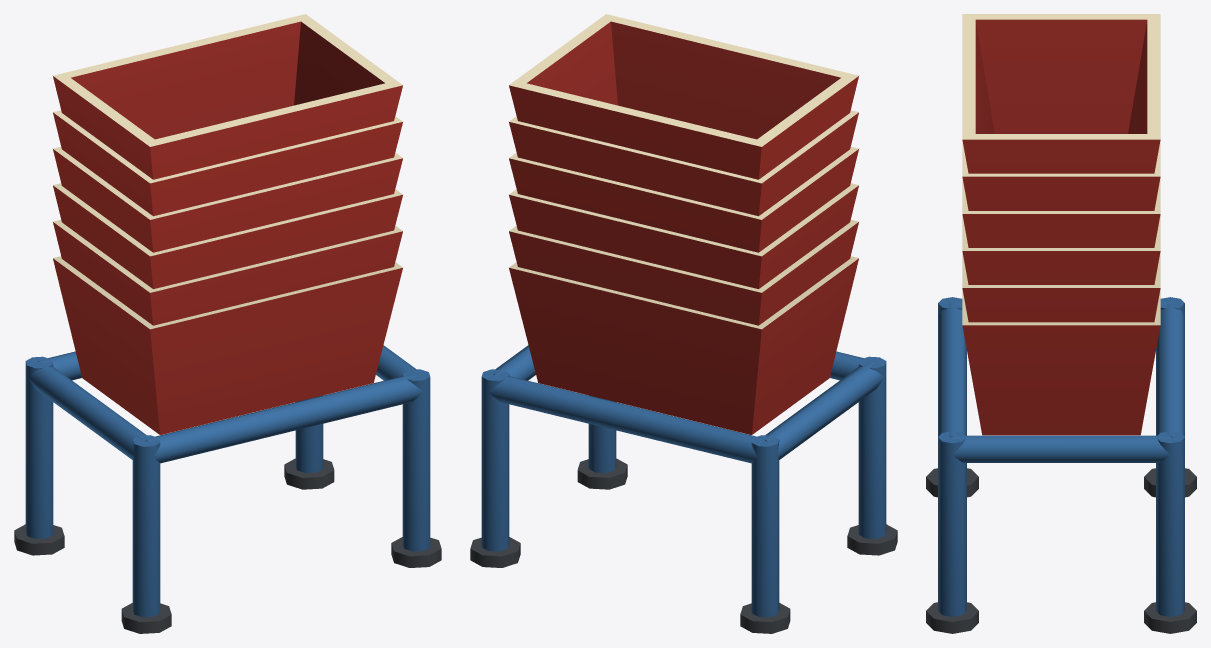
Rendered from Basket_Stack_01.glb.
3 renders of one model, left to right at view 1: azimuth 30°, elevation 25°; view 2: azimuth 150°, elevation 25°; view 3: azimuth 270°, elevation 25°, orthographic.
Visible parts, largest first — view 1: SM_Basket_Stack_01; view 2: SM_Basket_Stack_01; view 3: SM_Basket_Stack_01.
Part boxes in pixels (bbox=[...]): SM_Basket_Stack_01: bbox=[14, 14, 441, 633]; SM_Basket_Stack_01: bbox=[470, 14, 897, 633]; SM_Basket_Stack_01: bbox=[926, 14, 1196, 633].
Size of the model in its own units: 0.56 by 0.8 by 0.41.
Materials: 1 (1 with a texture image).
